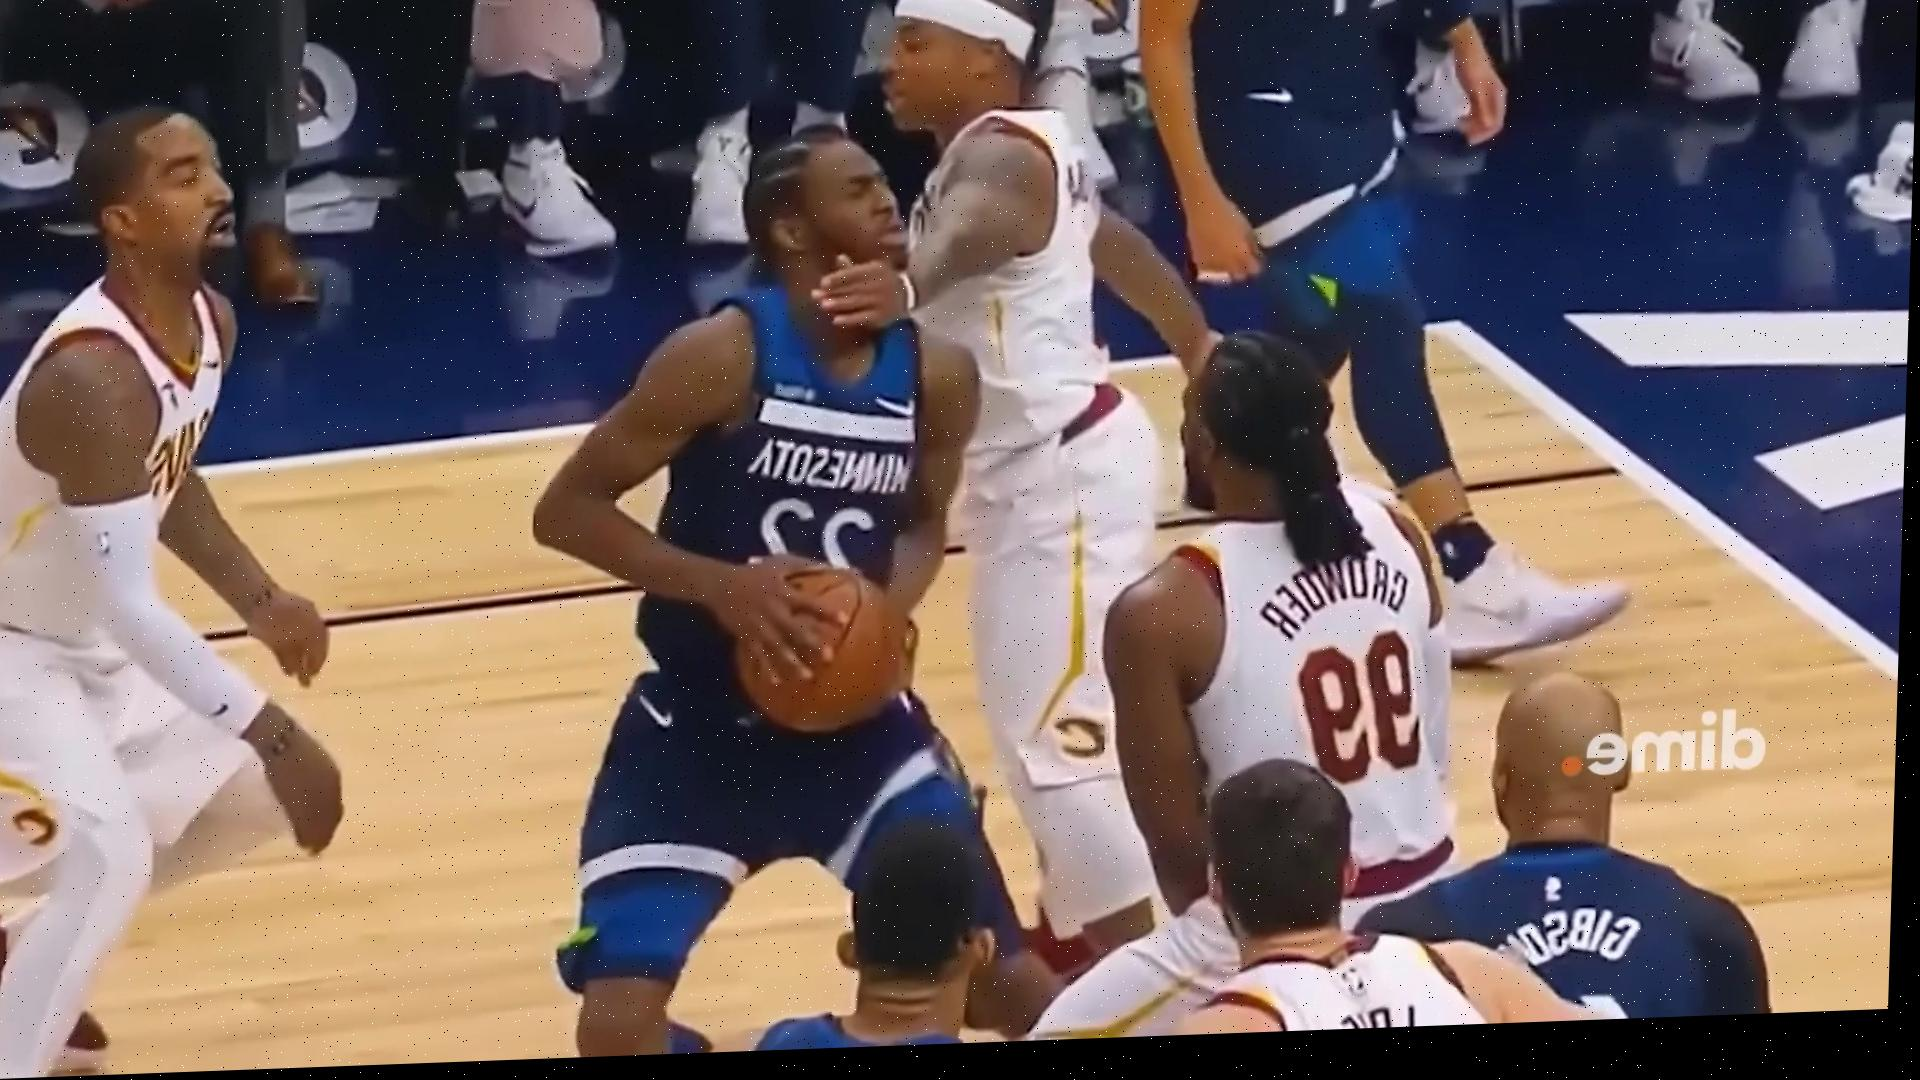foul: (559, 0, 1159, 1058)
